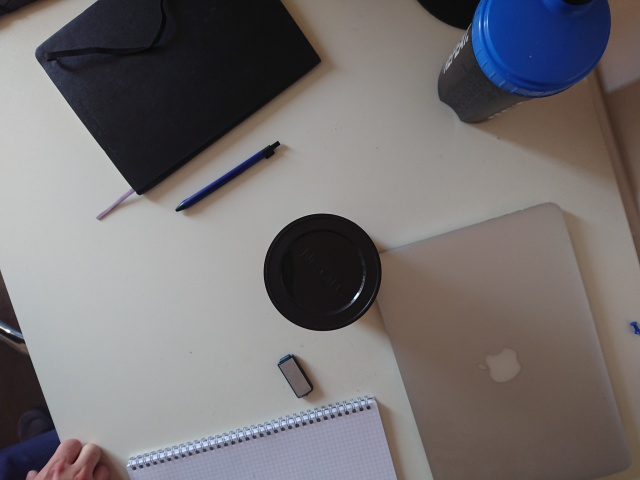Nescafe Classic 225g: (255, 207, 389, 338)
